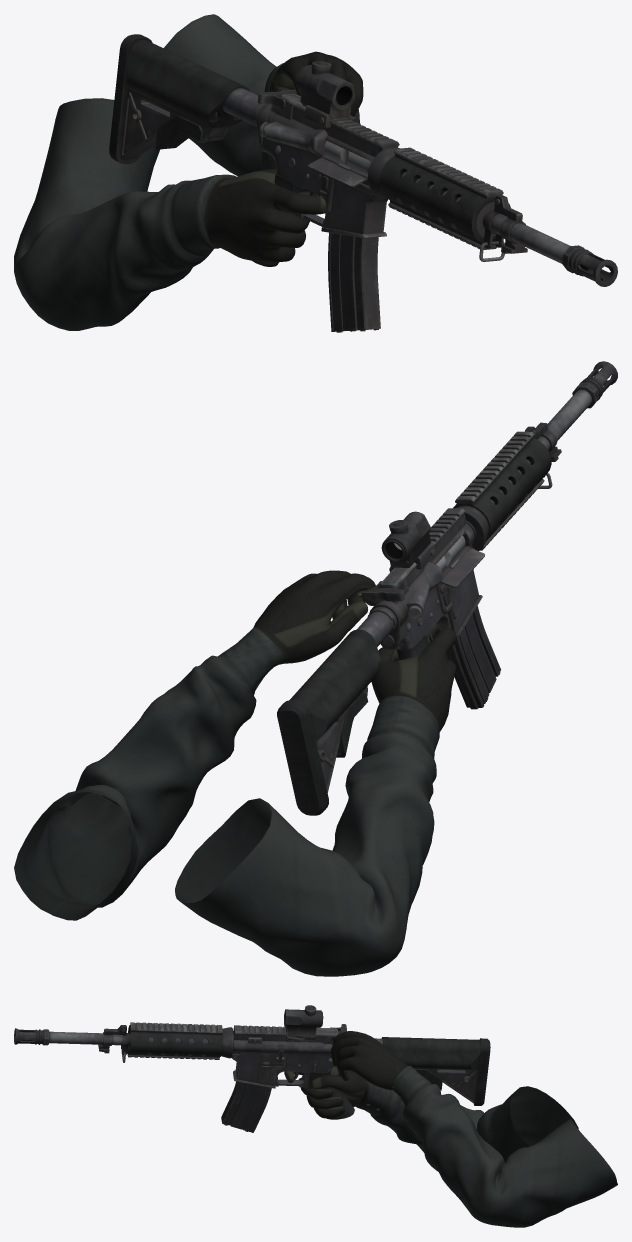
The model's file is carbine_000125.obj.
3 renders of one model, top to bottom at view 1: azimuth 30°, elevation 25°; view 2: azimuth 150°, elevation 25°; view 3: azimuth 270°, elevation 25°, orthographic. The views are drawn at different scales.
Parts seen in each view (by area): view 1: armmesh_arms_0, base_carbine_0, clip_carbine_0, scope_carbine_0, lid_carbine_0, bolt_carbine_0; view 2: armmesh_arms_0, base_carbine_0, clip_carbine_0, scope_carbine_0, lid_carbine_0; view 3: armmesh_arms_0, base_carbine_0, clip_carbine_0, scope_carbine_0.
Boxes of the visible parts, x1,y1,x2,y2 form: armmesh_arms_0: (14,14,363,330); base_carbine_0: (109,34,617,286); clip_carbine_0: (328,232,380,332); scope_carbine_0: (296,61,355,127); lid_carbine_0: (308,157,367,186); bolt_carbine_0: (324,141,370,174); armmesh_arms_0: (14,570,456,976); base_carbine_0: (277,361,617,815); clip_carbine_0: (446,606,500,709); scope_carbine_0: (381,511,435,572); lid_carbine_0: (440,548,484,587); armmesh_arms_0: (284,1031,617,1227); base_carbine_0: (14,1022,490,1119); clip_carbine_0: (221,1081,271,1132); scope_carbine_0: (284,1005,323,1042).
Size of the model in its own units: 49.34 by 46.98 by 128.
Materials: 3 (3 with a texture image).
